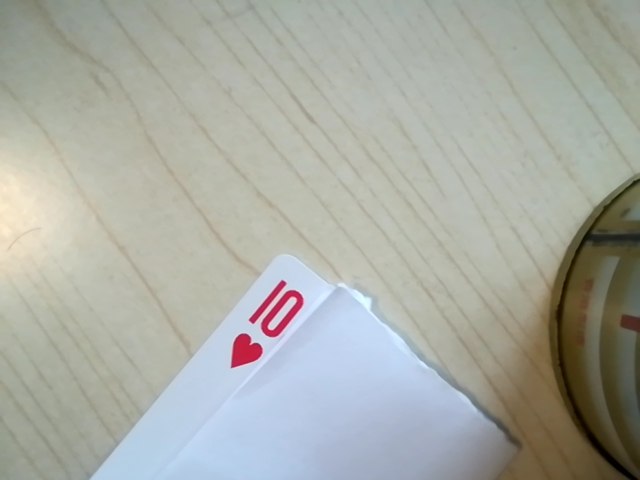hx 10: (219, 273, 317, 377)
